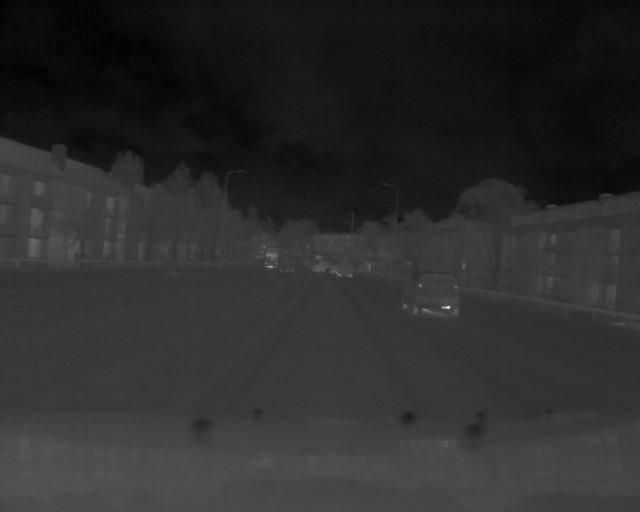car: (402, 271, 462, 318), (264, 248, 283, 272)
